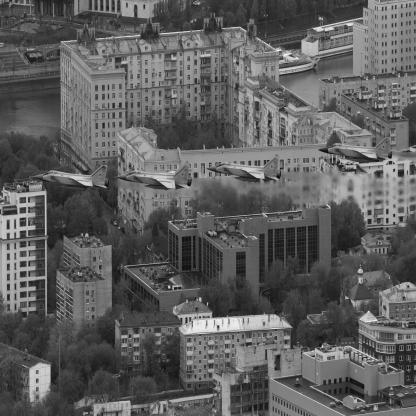Mig31: (113, 161, 194, 192), (30, 164, 111, 193), (316, 135, 394, 165), (203, 155, 283, 184)
